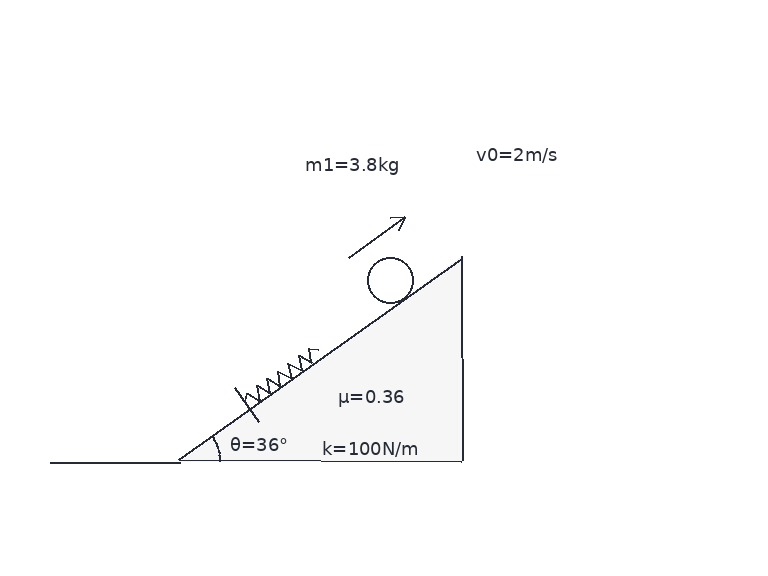ball: (365, 255, 415, 305)
ramp: (178, 254, 464, 463)
spring: (243, 346, 320, 405)
